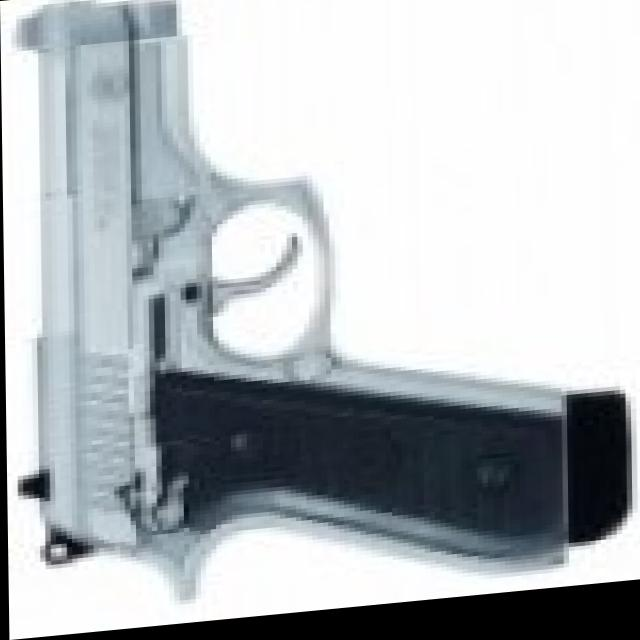handgun: (1, 0, 626, 616)
